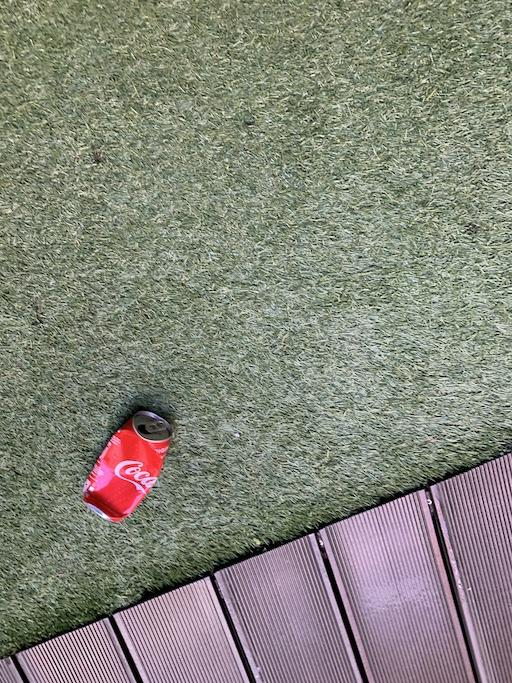Aluminum can: (52, 390, 181, 536)
